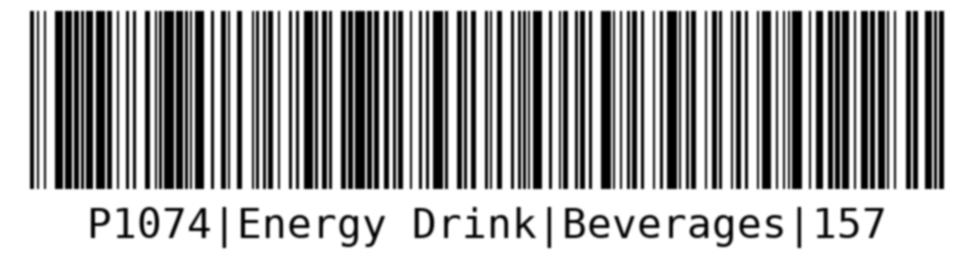milk: (13, 7, 952, 256)
